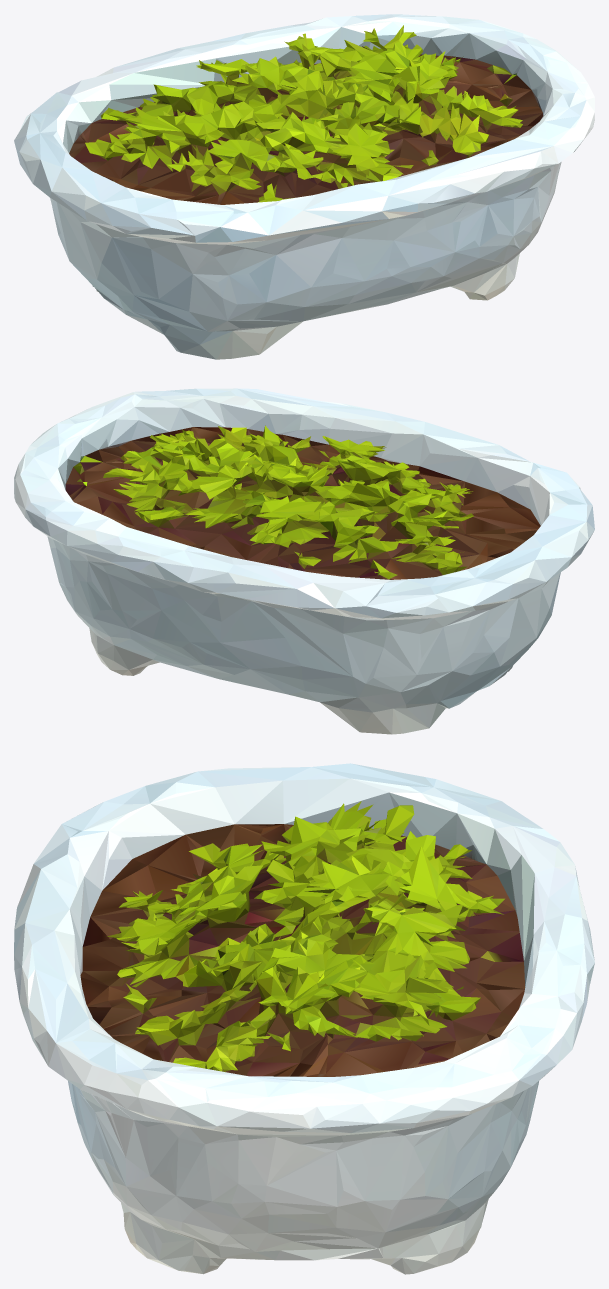
Rendered from pot.glb.
3 views of the same model, one above another, from view 1: azimuth 30°, elevation 25°; view 2: azimuth 150°, elevation 25°; view 3: azimuth 270°, elevation 25° (orthographic). The views are drawn at different scales.
Parts seen in each view (by area): view 1: pot; view 2: pot; view 3: pot.
Part boxes in pixels (bbox=[...]): pot: bbox=[14, 14, 594, 359]; pot: bbox=[14, 388, 594, 734]; pot: bbox=[14, 763, 594, 1274].
Size of the model in its own units: 0.9864 by 0.3891 by 0.6971.
1 material, 1 textured.
